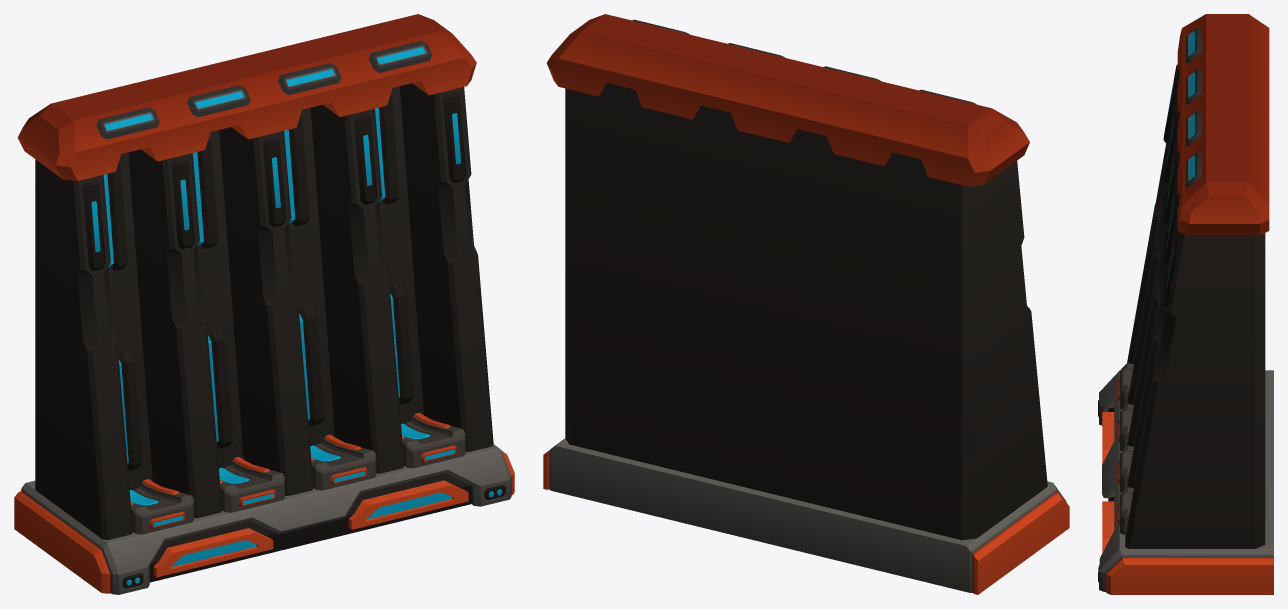
File: Charging_Station_08.fbx
3 renders of one model, left to right at view 1: azimuth 30°, elevation 25°; view 2: azimuth 150°, elevation 25°; view 3: azimuth 270°, elevation 25°, orthographic. The views are drawn at different scales.
Visible parts, largest first — view 1: Charging_Station_08; view 2: Charging_Station_08; view 3: Charging_Station_08.
Boxes of the visible parts, x1,y1,x2,y2 form: Charging_Station_08: (14,14,514,594); Charging_Station_08: (543,14,1069,594); Charging_Station_08: (1098,14,1273,594).
Size of the model in its own units: 122 by 119 by 46.93.
